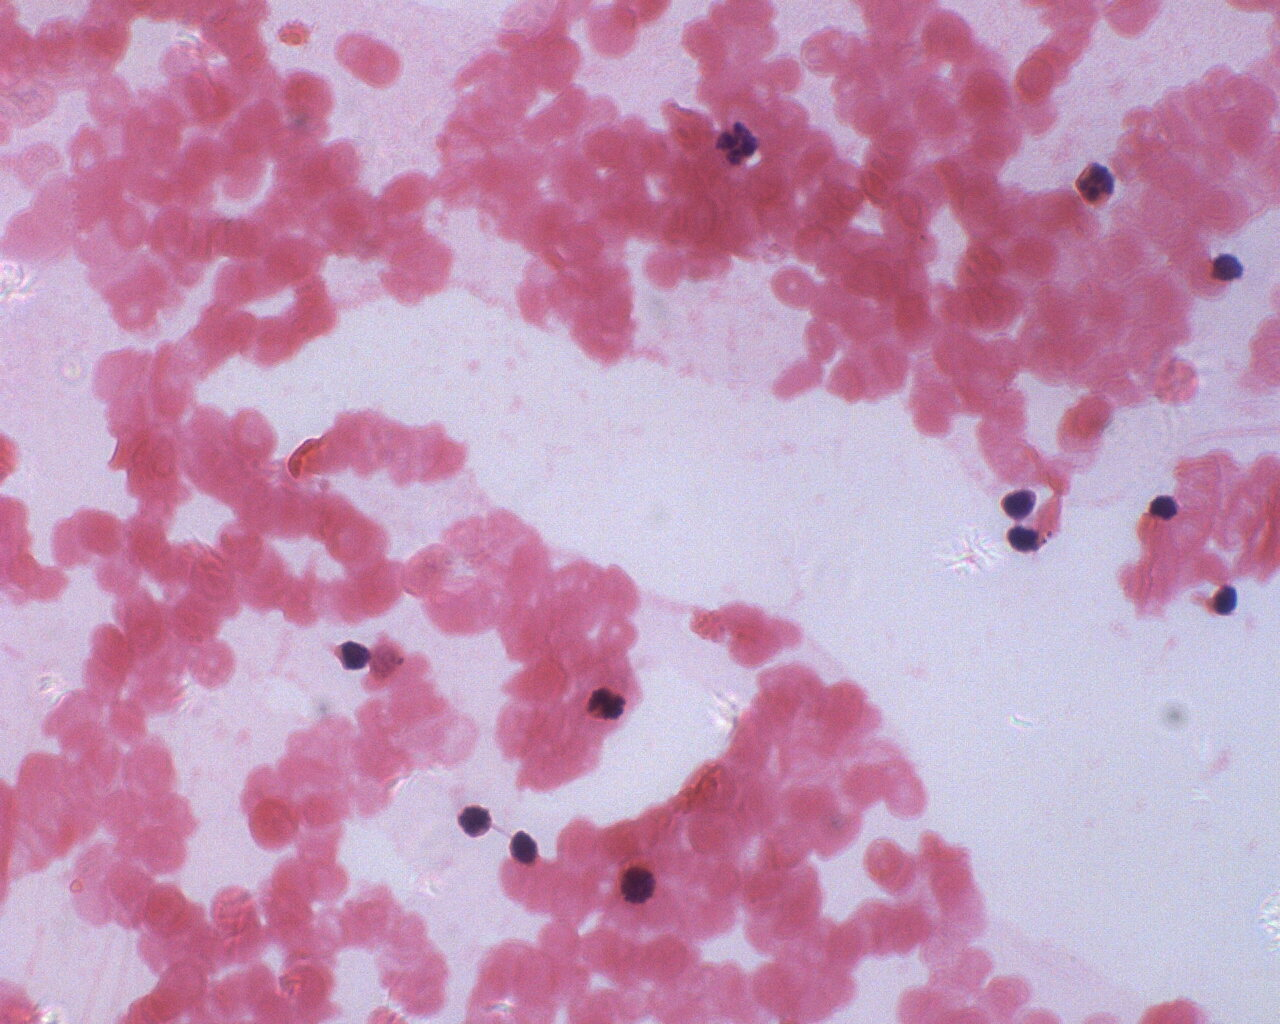lymph: (330, 632, 378, 674), (501, 825, 540, 865), (1000, 483, 1041, 519), (1206, 581, 1242, 618), (1149, 492, 1183, 522)
neutro: (1072, 159, 1121, 215)
